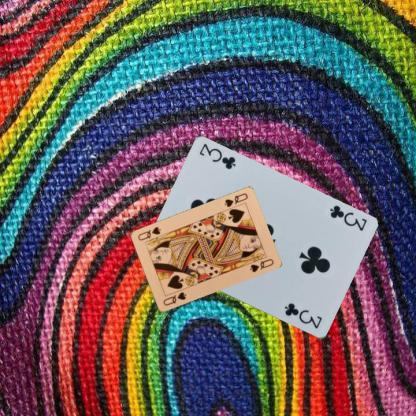3c: (326, 203, 368, 233)
Qs: (161, 289, 187, 308), (222, 191, 249, 209)
